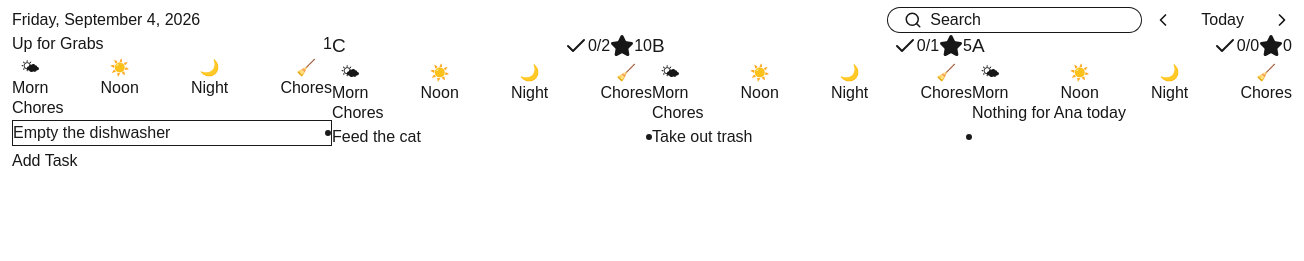
Scenario: TasksBoard › puts the stored streak on a tracked routine's card (T070, FR-371, FR-372)
# 13:00 is Afternoon, so the morning routine is behind its own toggle.
Click the button with aria-label "Morning" at (350, 80), box [332,60,368,100]
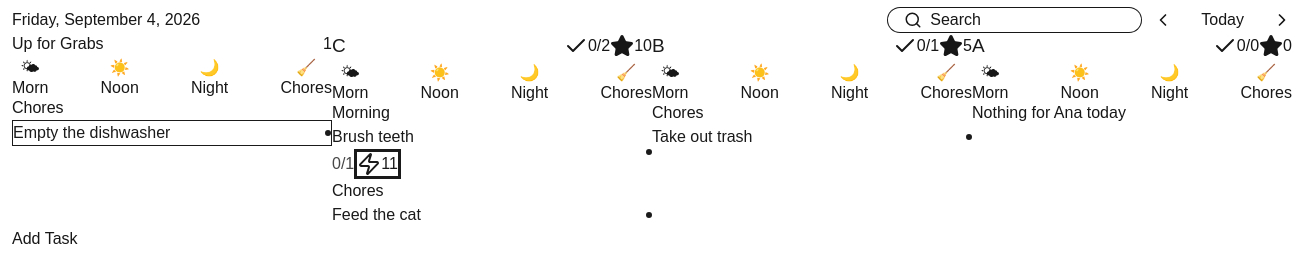
Check: the text "Brush teeth" is shown, box [332,124,414,148]
Check: the element showing "11" is shown, box [354,148,401,178]
